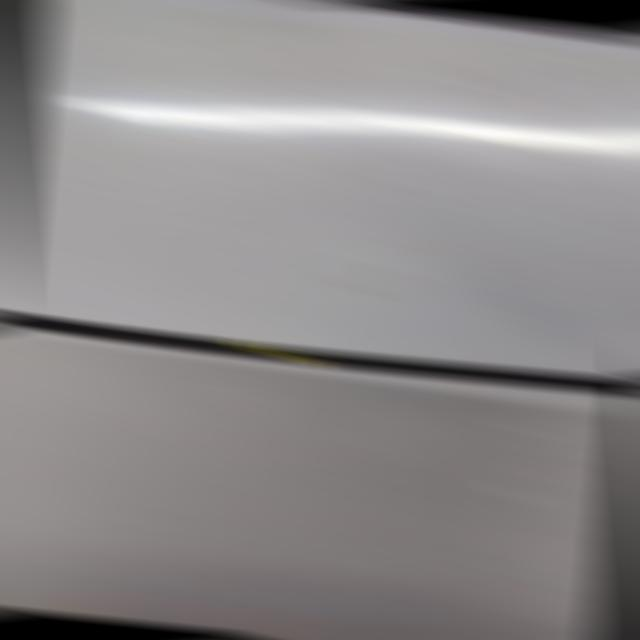yellow: (242, 341, 314, 363)
